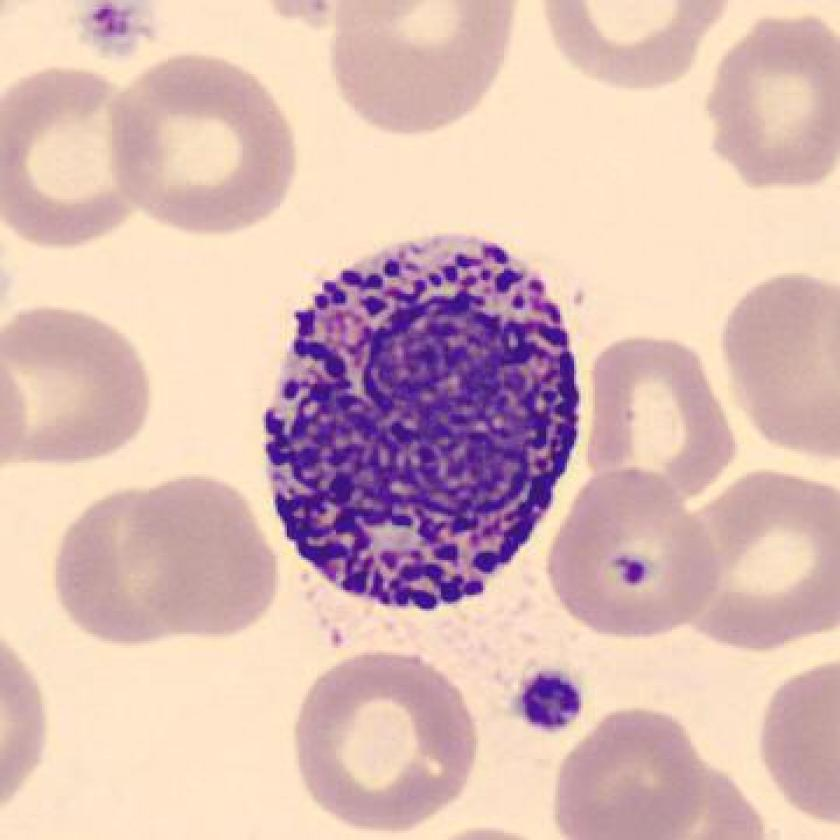basophil: (267, 228, 580, 621)
